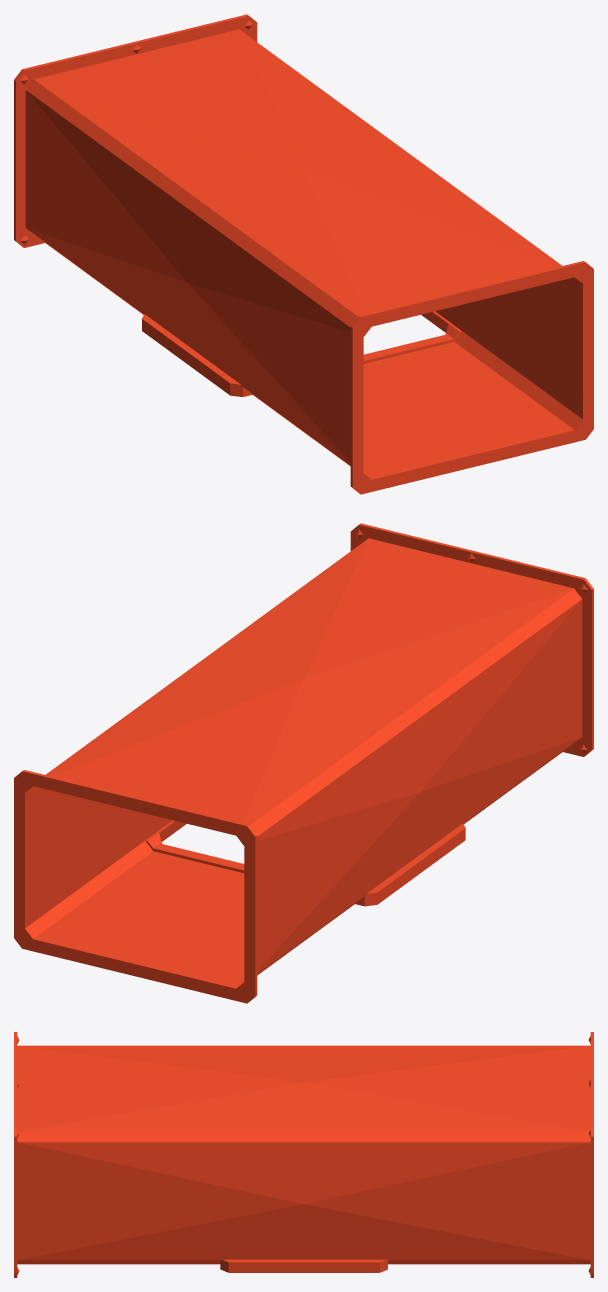
The model's file is SM_Vent_Door_Down_City.fbx.
The picture shows the model from 3 angles, top to bottom: view 1: azimuth 30°, elevation 25°; view 2: azimuth 150°, elevation 25°; view 3: azimuth 270°, elevation 25°; orthographic projection. The views are drawn at different scales.
Parts seen in each view (by area): view 1: SM_Vent_Door_Down_City; view 2: SM_Vent_Door_Down_City; view 3: SM_Vent_Door_Down_City.
Part boxes in pixels (x1,y1,x2,y2): SM_Vent_Door_Down_City: [14, 14, 593, 494]; SM_Vent_Door_Down_City: [14, 523, 593, 1003]; SM_Vent_Door_Down_City: [14, 1032, 593, 1277].
Bounding box in the file's own units: 0.8224 × 0.578 × 2.
